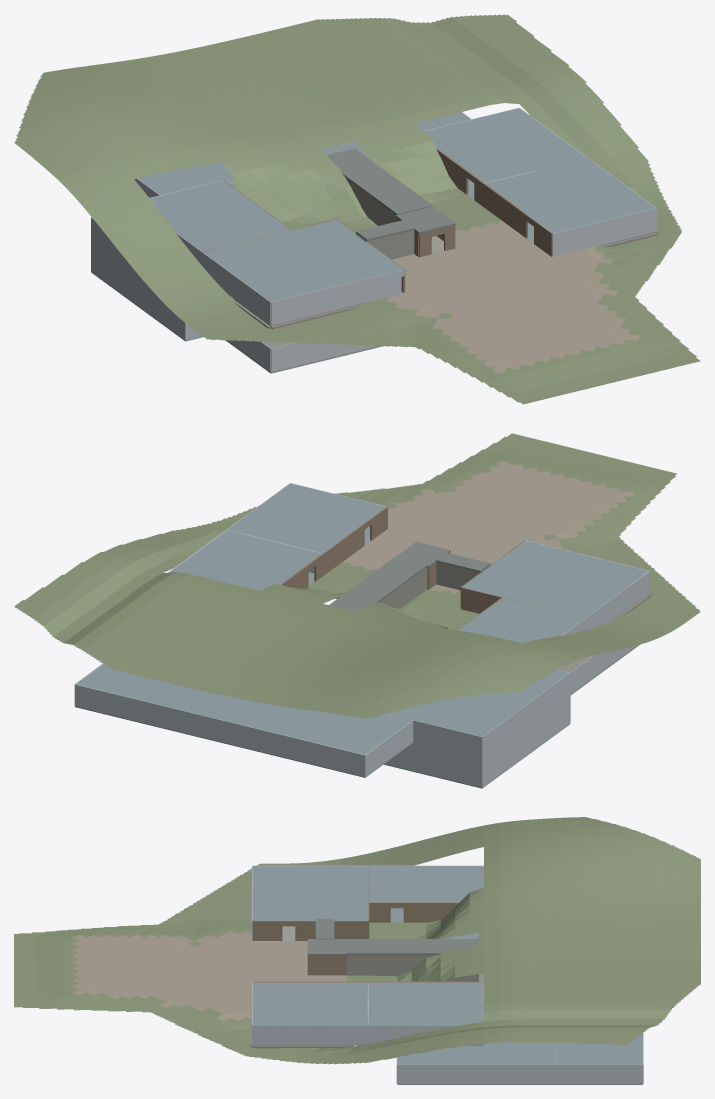
The model's file is mine-stair-thresholds.glb.
3 views of the same model, one above another, from view 1: azimuth 30°, elevation 25°; view 2: azimuth 150°, elevation 25°; view 3: azimuth 270°, elevation 25° (orthographic). The views are drawn at different scales.
Visible parts, largest first — view 1: WLD-05 saved ground, Ceiling cap shack, Ceiling cap assay, Ceiling cap wash, Ceiling cap stores, Flat route shell Wall shack S, Mine haul stair weather roof region0, Wall lower W, Wall assay S, Ceiling cap cross, Wall vent S, Wall shack W (+7 smaller); view 2: WLD-05 saved ground, Ceiling cap shack, Ceiling cap cross, Ceiling cap assay, Ceiling cap wash, Wall cross N, Ceiling cap ore-west, Ceiling cap stores, Wall lower W, Wall lower N, Mine haul stair weather roof region0, Wall ore-west W (+12 smaller); view 3: WLD-05 saved ground, Ceiling cap shack, Ceiling cap assay, Ceiling cap wash, Ceiling cap stores, Wall ore-east E, Ceiling cap ore-east, Wall assay E, Mine haul stair weather roof region0, Ceiling cap lift, Wall lift E, Mine haul east retaining wall region0 (+8 smaller).
Part boxes in pixels (x1,y1,x2,y2): WLD-05 saved ground: [14, 14, 700, 404]; Ceiling cap shack: [203, 220, 403, 301]; Ceiling cap assay: [485, 158, 655, 233]; Ceiling cap wash: [424, 108, 586, 182]; Ceiling cap stores: [150, 180, 290, 251]; Flat route shell Wall shack S: [271, 269, 404, 325]; Mine haul stair weather roof region0: [327, 148, 432, 214]; Wall lower W: [91, 241, 185, 340]; Wall assay S: [552, 208, 656, 256]; Ceiling cap cross: [137, 142, 362, 195]; Wall vent S: [271, 342, 376, 371]; Wall shack W: [202, 252, 270, 325]; WLD-05 saved ground: [14, 433, 700, 718]; Ceiling cap shack: [462, 540, 648, 617]; Ceiling cap cross: [144, 683, 412, 754]; Ceiling cap assay: [227, 483, 386, 553]; Ceiling cap wash: [169, 530, 322, 590]; Wall cross N: [144, 701, 365, 776]; Ceiling cap ore-west: [388, 669, 569, 736]; Ceiling cap stores: [458, 597, 585, 643]; Wall lower W: [482, 694, 570, 787]; Wall lower N: [385, 742, 482, 787]; Mine haul stair weather roof region0: [329, 557, 427, 610]; Wall ore-west W: [482, 673, 570, 758]; WLD-05 saved ground: [14, 817, 700, 1064]; Ceiling cap shack: [252, 866, 368, 920]; Ceiling cap assay: [252, 982, 368, 1024]; Ceiling cap wash: [368, 982, 483, 1024]; Ceiling cap stores: [368, 866, 483, 902]; Wall ore-east E: [397, 1064, 556, 1084]; Ceiling cap ore-east: [397, 1042, 556, 1064]; Wall assay E: [252, 1024, 368, 1044]; Mine haul stair weather roof region0: [346, 939, 478, 955]; Ceiling cap lift: [556, 1033, 642, 1064]; Wall lift E: [556, 1064, 642, 1084]; Mine haul east retaining wall region0: [346, 955, 466, 981].
Size of the model in its own units: 70 by 17.77 by 95.
35 materials, 16 textured.
